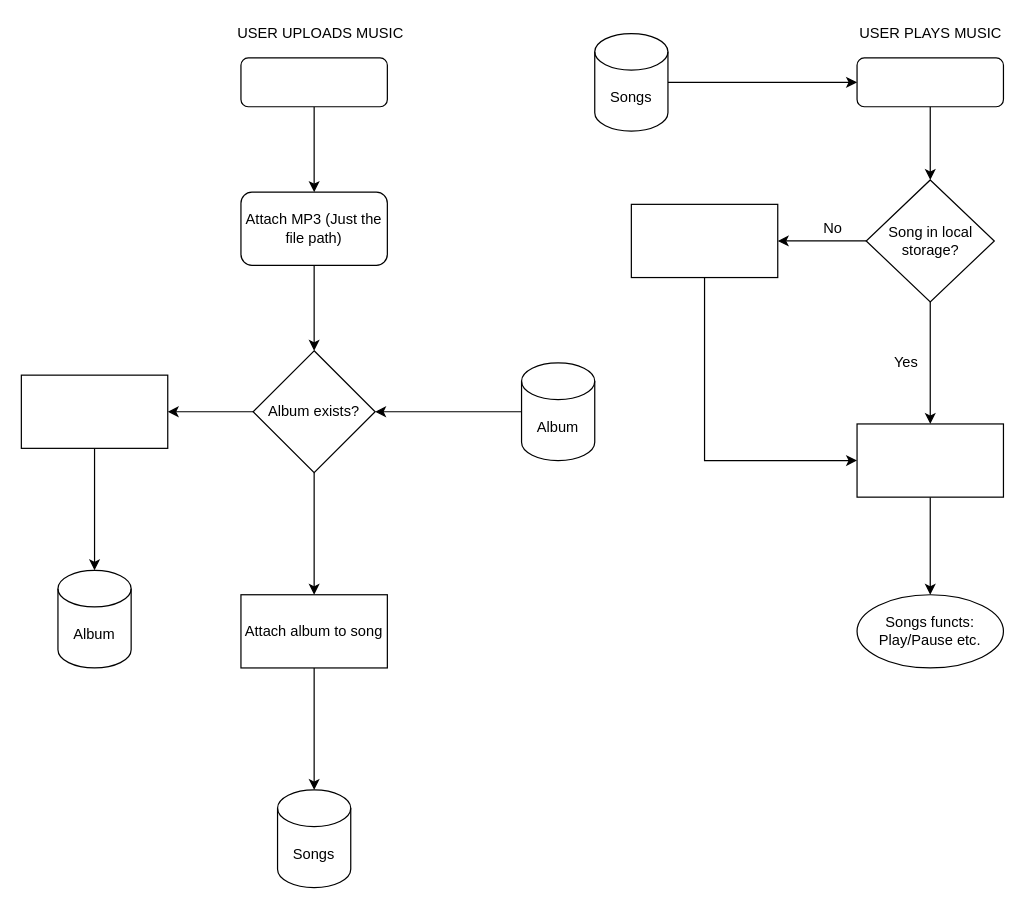
Image size: 1031x909. Some labels were removed from this diagram. Each missing label, with the centre of its shape:
"Choose song from list" goes at [929,82].
"Download from database" goes at [704,240].
"Fillout form" goes at [313,82].
"Nullable: Create new Album" goes at [94,411].
"Supply JLayer with Filepath and deserialize Song object" goes at [929,460].
